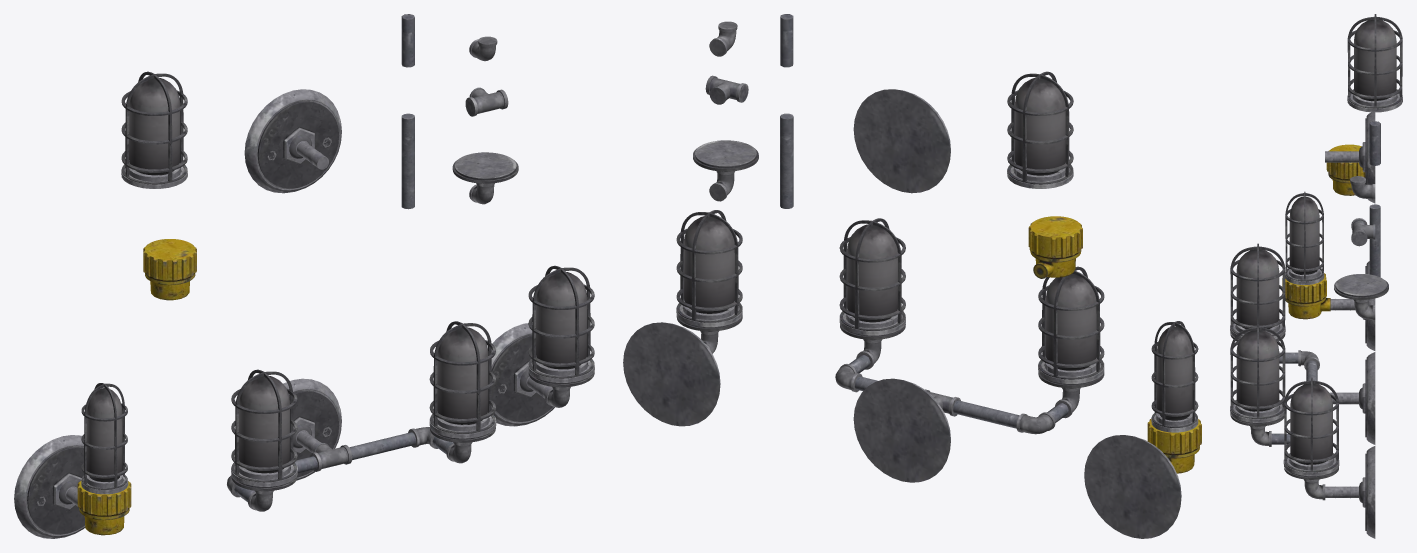
Rendered from industrial_caged_sconce.glb.
The picture shows the model from 3 angles, left to right: view 1: azimuth 30°, elevation 25°; view 2: azimuth 150°, elevation 25°; view 3: azimuth 270°, elevation 25°; orthographic projection. The views are drawn at different scales.
Visible parts, largest first — view 1: industrial_caged_sconce_b; view 2: industrial_caged_sconce_b; view 3: industrial_caged_sconce_b.
Boxes of the visible parts, x1,y1,x2,y2 form: industrial_caged_sconce_b: (14,14,594,538); industrial_caged_sconce_b: (623,14,1201,538); industrial_caged_sconce_b: (1230,14,1402,538).
Bounding box in the file's own units: 1.21 × 0.9128 × 0.3895.
1 material, 1 textured.
